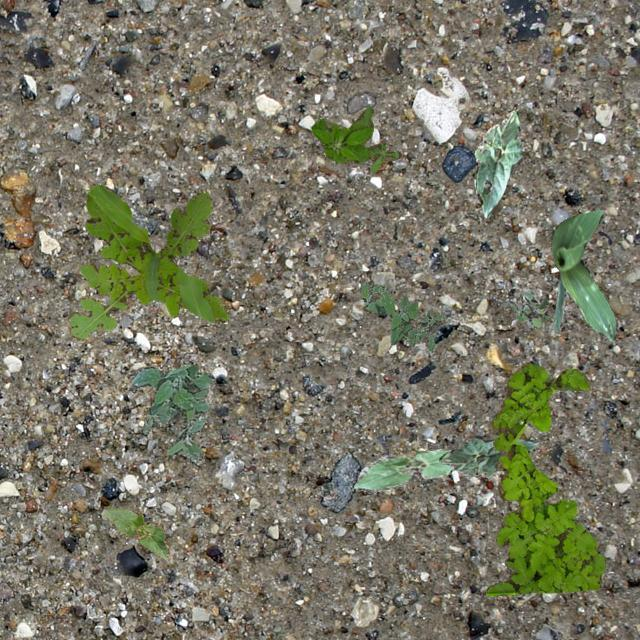crop: (550, 208, 618, 339), (474, 110, 522, 216), (352, 446, 460, 492), (438, 434, 538, 478), (102, 506, 168, 558)
weed: (486, 362, 604, 594), (66, 183, 228, 339), (132, 364, 215, 464), (358, 278, 444, 350), (310, 106, 400, 172), (506, 288, 548, 328)
